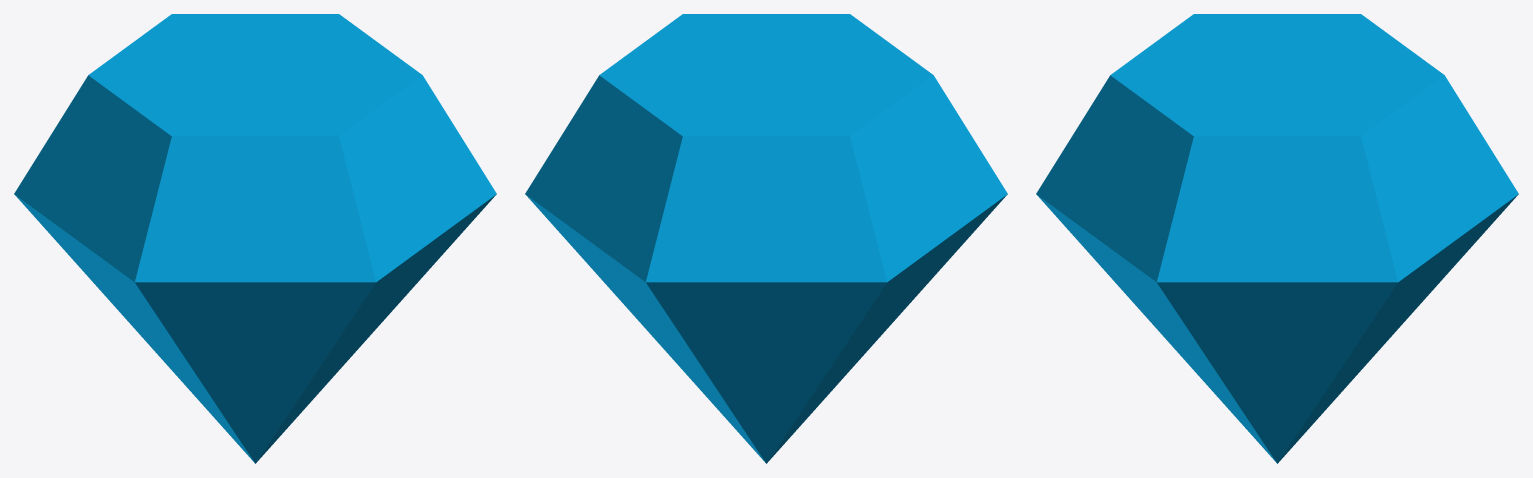
Rendered from Jewel.fbx.
3 views of the same model, side by side, from view 1: azimuth 30°, elevation 25°; view 2: azimuth 150°, elevation 25°; view 3: azimuth 270°, elevation 25° (orthographic).
Visible parts, largest first — view 1: Cylinder; view 2: Cylinder; view 3: Cylinder.
Part boxes in pixels (<box>): Cylinder: <box>14,14,496,463</box>; Cylinder: <box>525,14,1007,463</box>; Cylinder: <box>1036,14,1518,463</box>.
Size of the model in its own units: 173 by 178 by 200.
